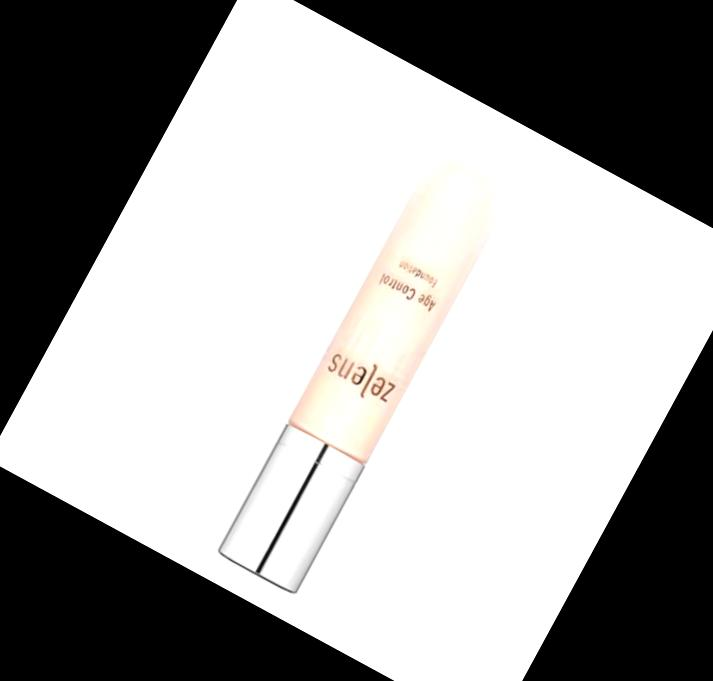cosmetic: (211, 108, 536, 598)
